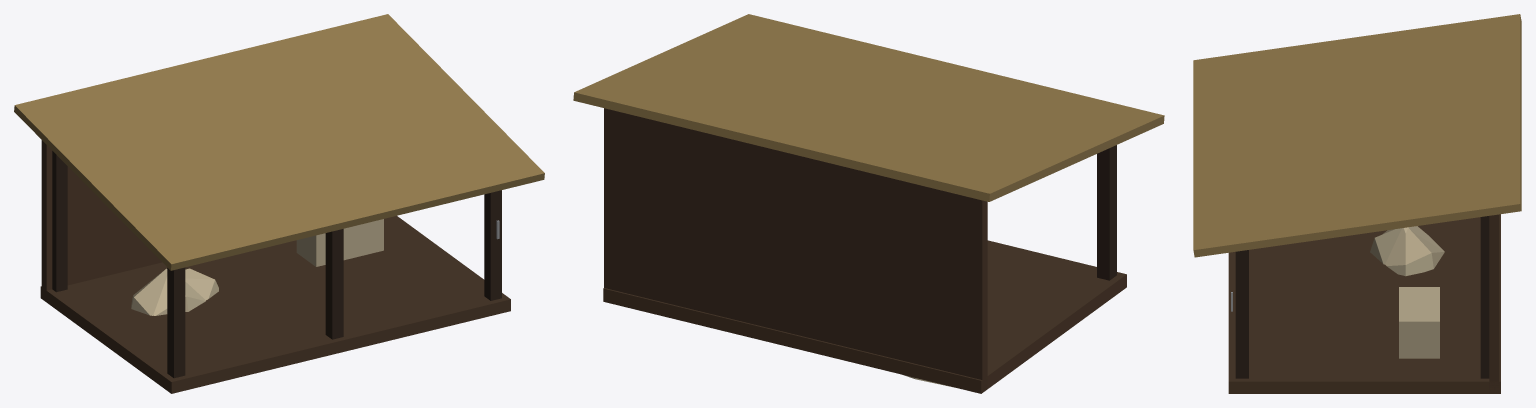
File: walk_prop_shearing_shed.glb
3 renders of one model, left to right at view 1: azimuth 30°, elevation 25°; view 2: azimuth 150°, elevation 25°; view 3: azimuth 270°, elevation 25°, orthographic. The views are drawn at different scales.
Visible parts, largest first — view 1: walk_prop_shearing_shed_roof, walk_prop_shearing_shed; view 2: walk_prop_shearing_shed, walk_prop_shearing_shed_roof; view 3: walk_prop_shearing_shed_roof, walk_prop_shearing_shed.
Boxes of the visible parts, x1=… form: walk_prop_shearing_shed_roof: x1=14, y1=14, x2=544, y2=270; walk_prop_shearing_shed: x1=40, y1=140, x2=510, y2=393; walk_prop_shearing_shed: x1=603, y1=108, x2=1126, y2=393; walk_prop_shearing_shed_roof: x1=573, y1=14, x2=1164, y2=201; walk_prop_shearing_shed_roof: x1=1193, y1=14, x2=1521, y2=257; walk_prop_shearing_shed: x1=1228, y1=214, x2=1500, y2=393.
Size of what is drawn, in the model's own units: 6.6 by 3.76 by 4.82.
2 materials, 2 textured.
